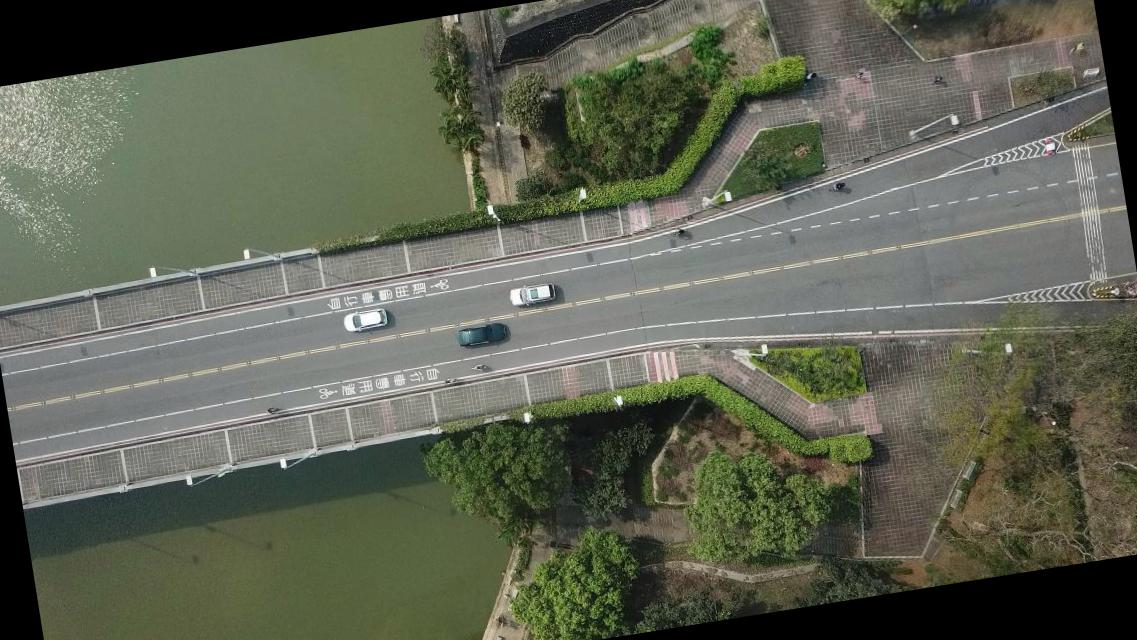vehicle: (456, 321, 507, 348), (508, 280, 556, 308), (342, 306, 389, 334)
